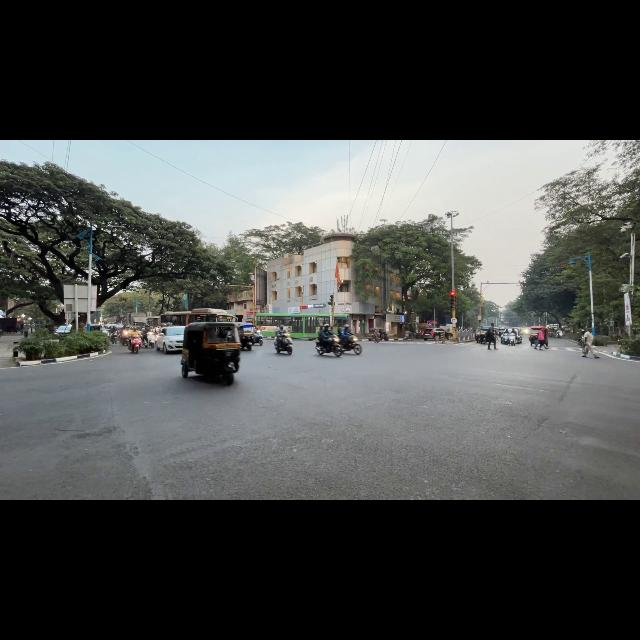bus: (256, 314, 330, 338), (161, 309, 236, 325)
car: (156, 326, 184, 353), (423, 328, 447, 340), (54, 325, 72, 337), (476, 327, 488, 343), (432, 328, 448, 339), (90, 325, 108, 334), (423, 328, 433, 340)
motorcycle: (316, 336, 344, 356), (341, 334, 362, 356), (275, 333, 292, 354), (129, 336, 141, 353), (144, 332, 156, 348), (253, 330, 263, 345), (120, 330, 128, 345), (379, 331, 389, 341), (509, 334, 517, 346), (110, 333, 118, 344), (501, 333, 508, 344), (556, 331, 563, 337)
truck: (124, 313, 147, 326)
